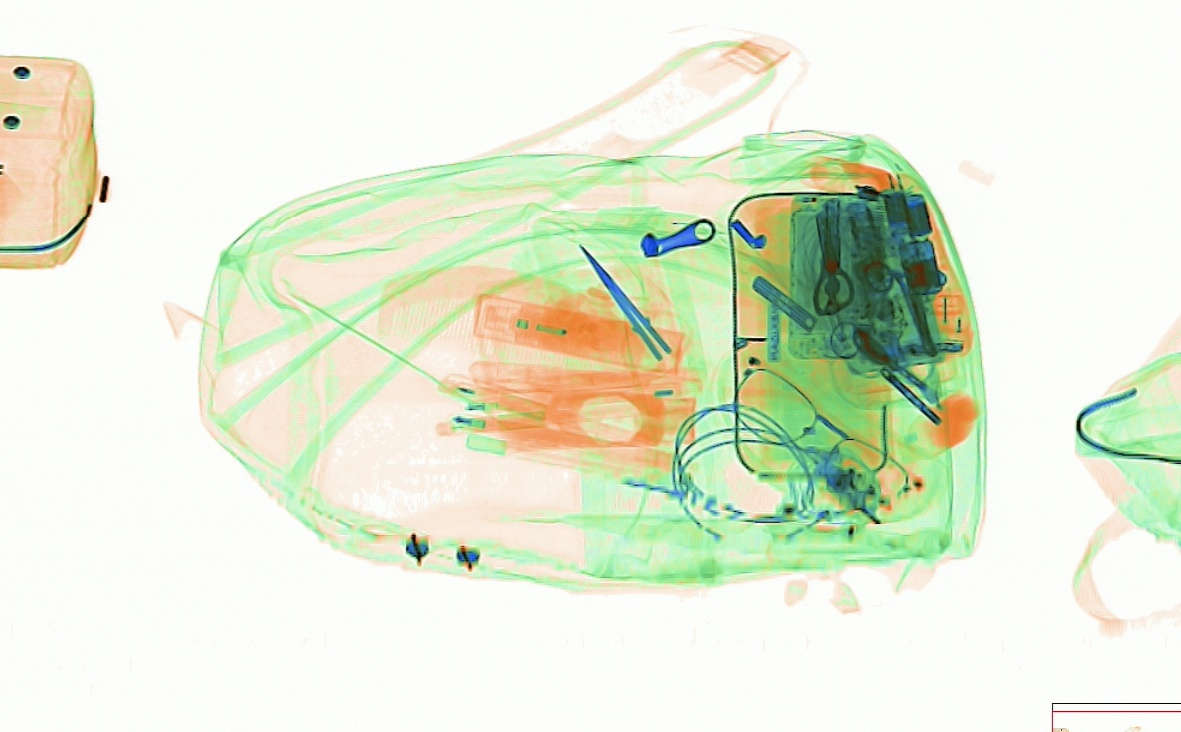scissors: (574, 238, 697, 376)
